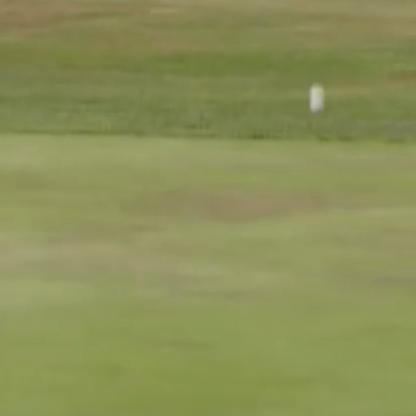golfball: (307, 80, 323, 108)
